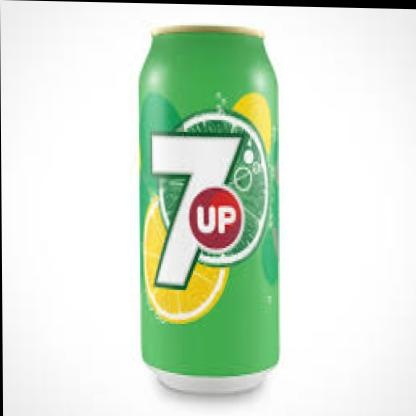trash: (139, 26, 278, 392)
